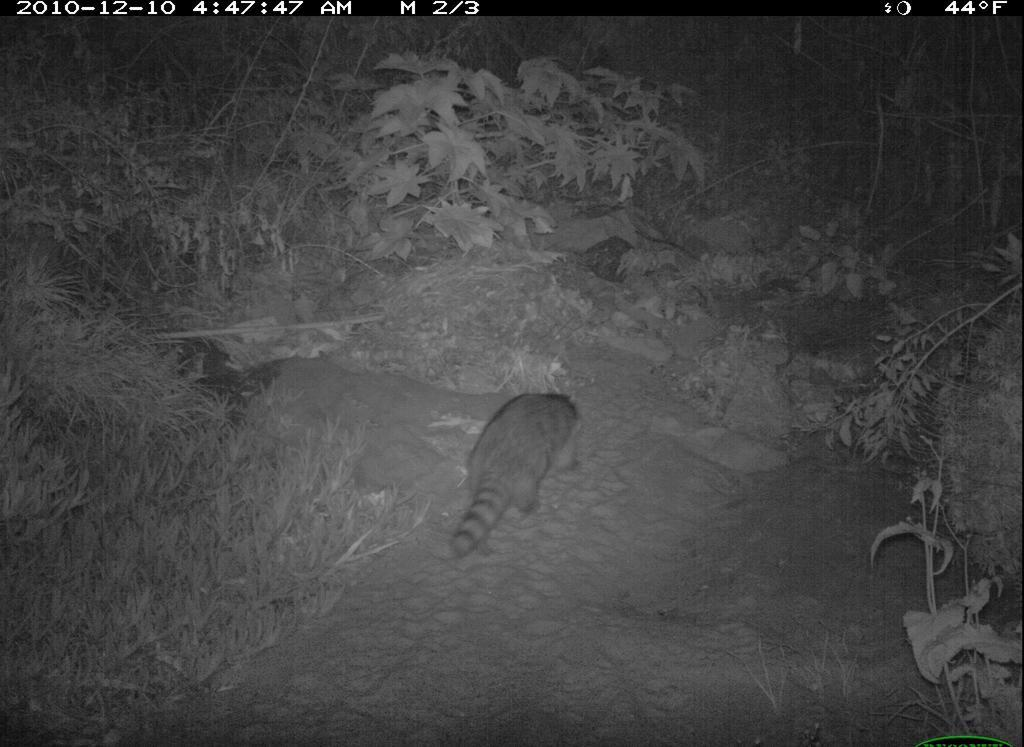raccoon: (425, 369, 602, 560)
